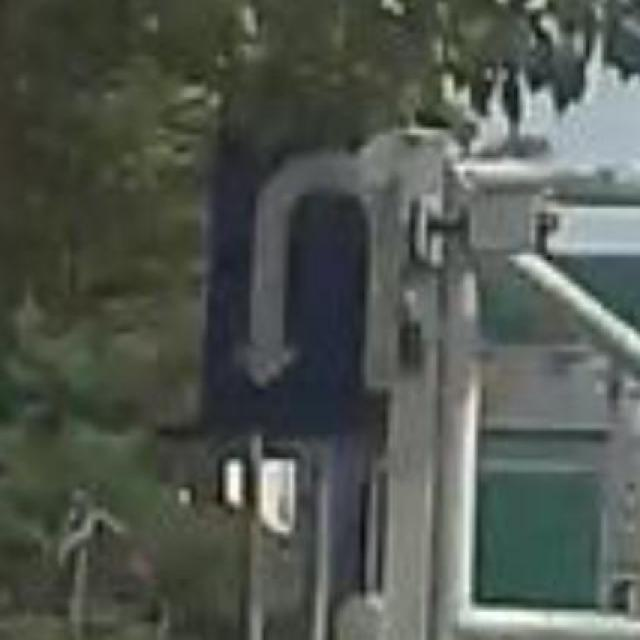U-turn: (210, 104, 374, 428)
